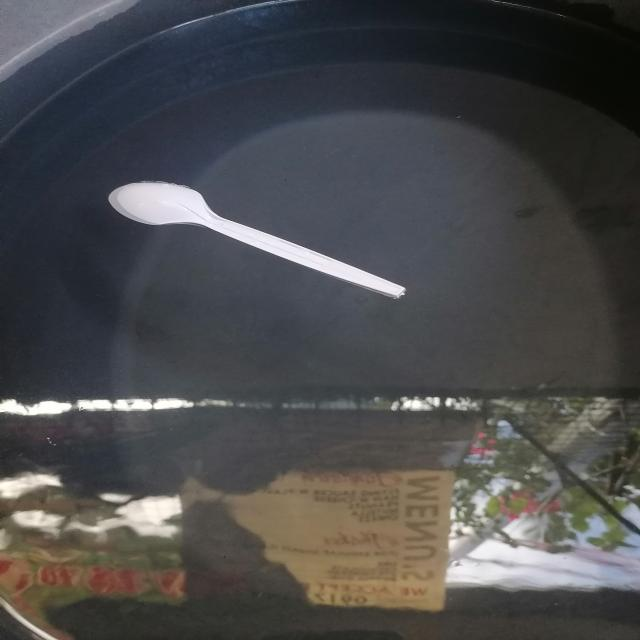Plastic Spoon: (109, 182, 405, 299)
